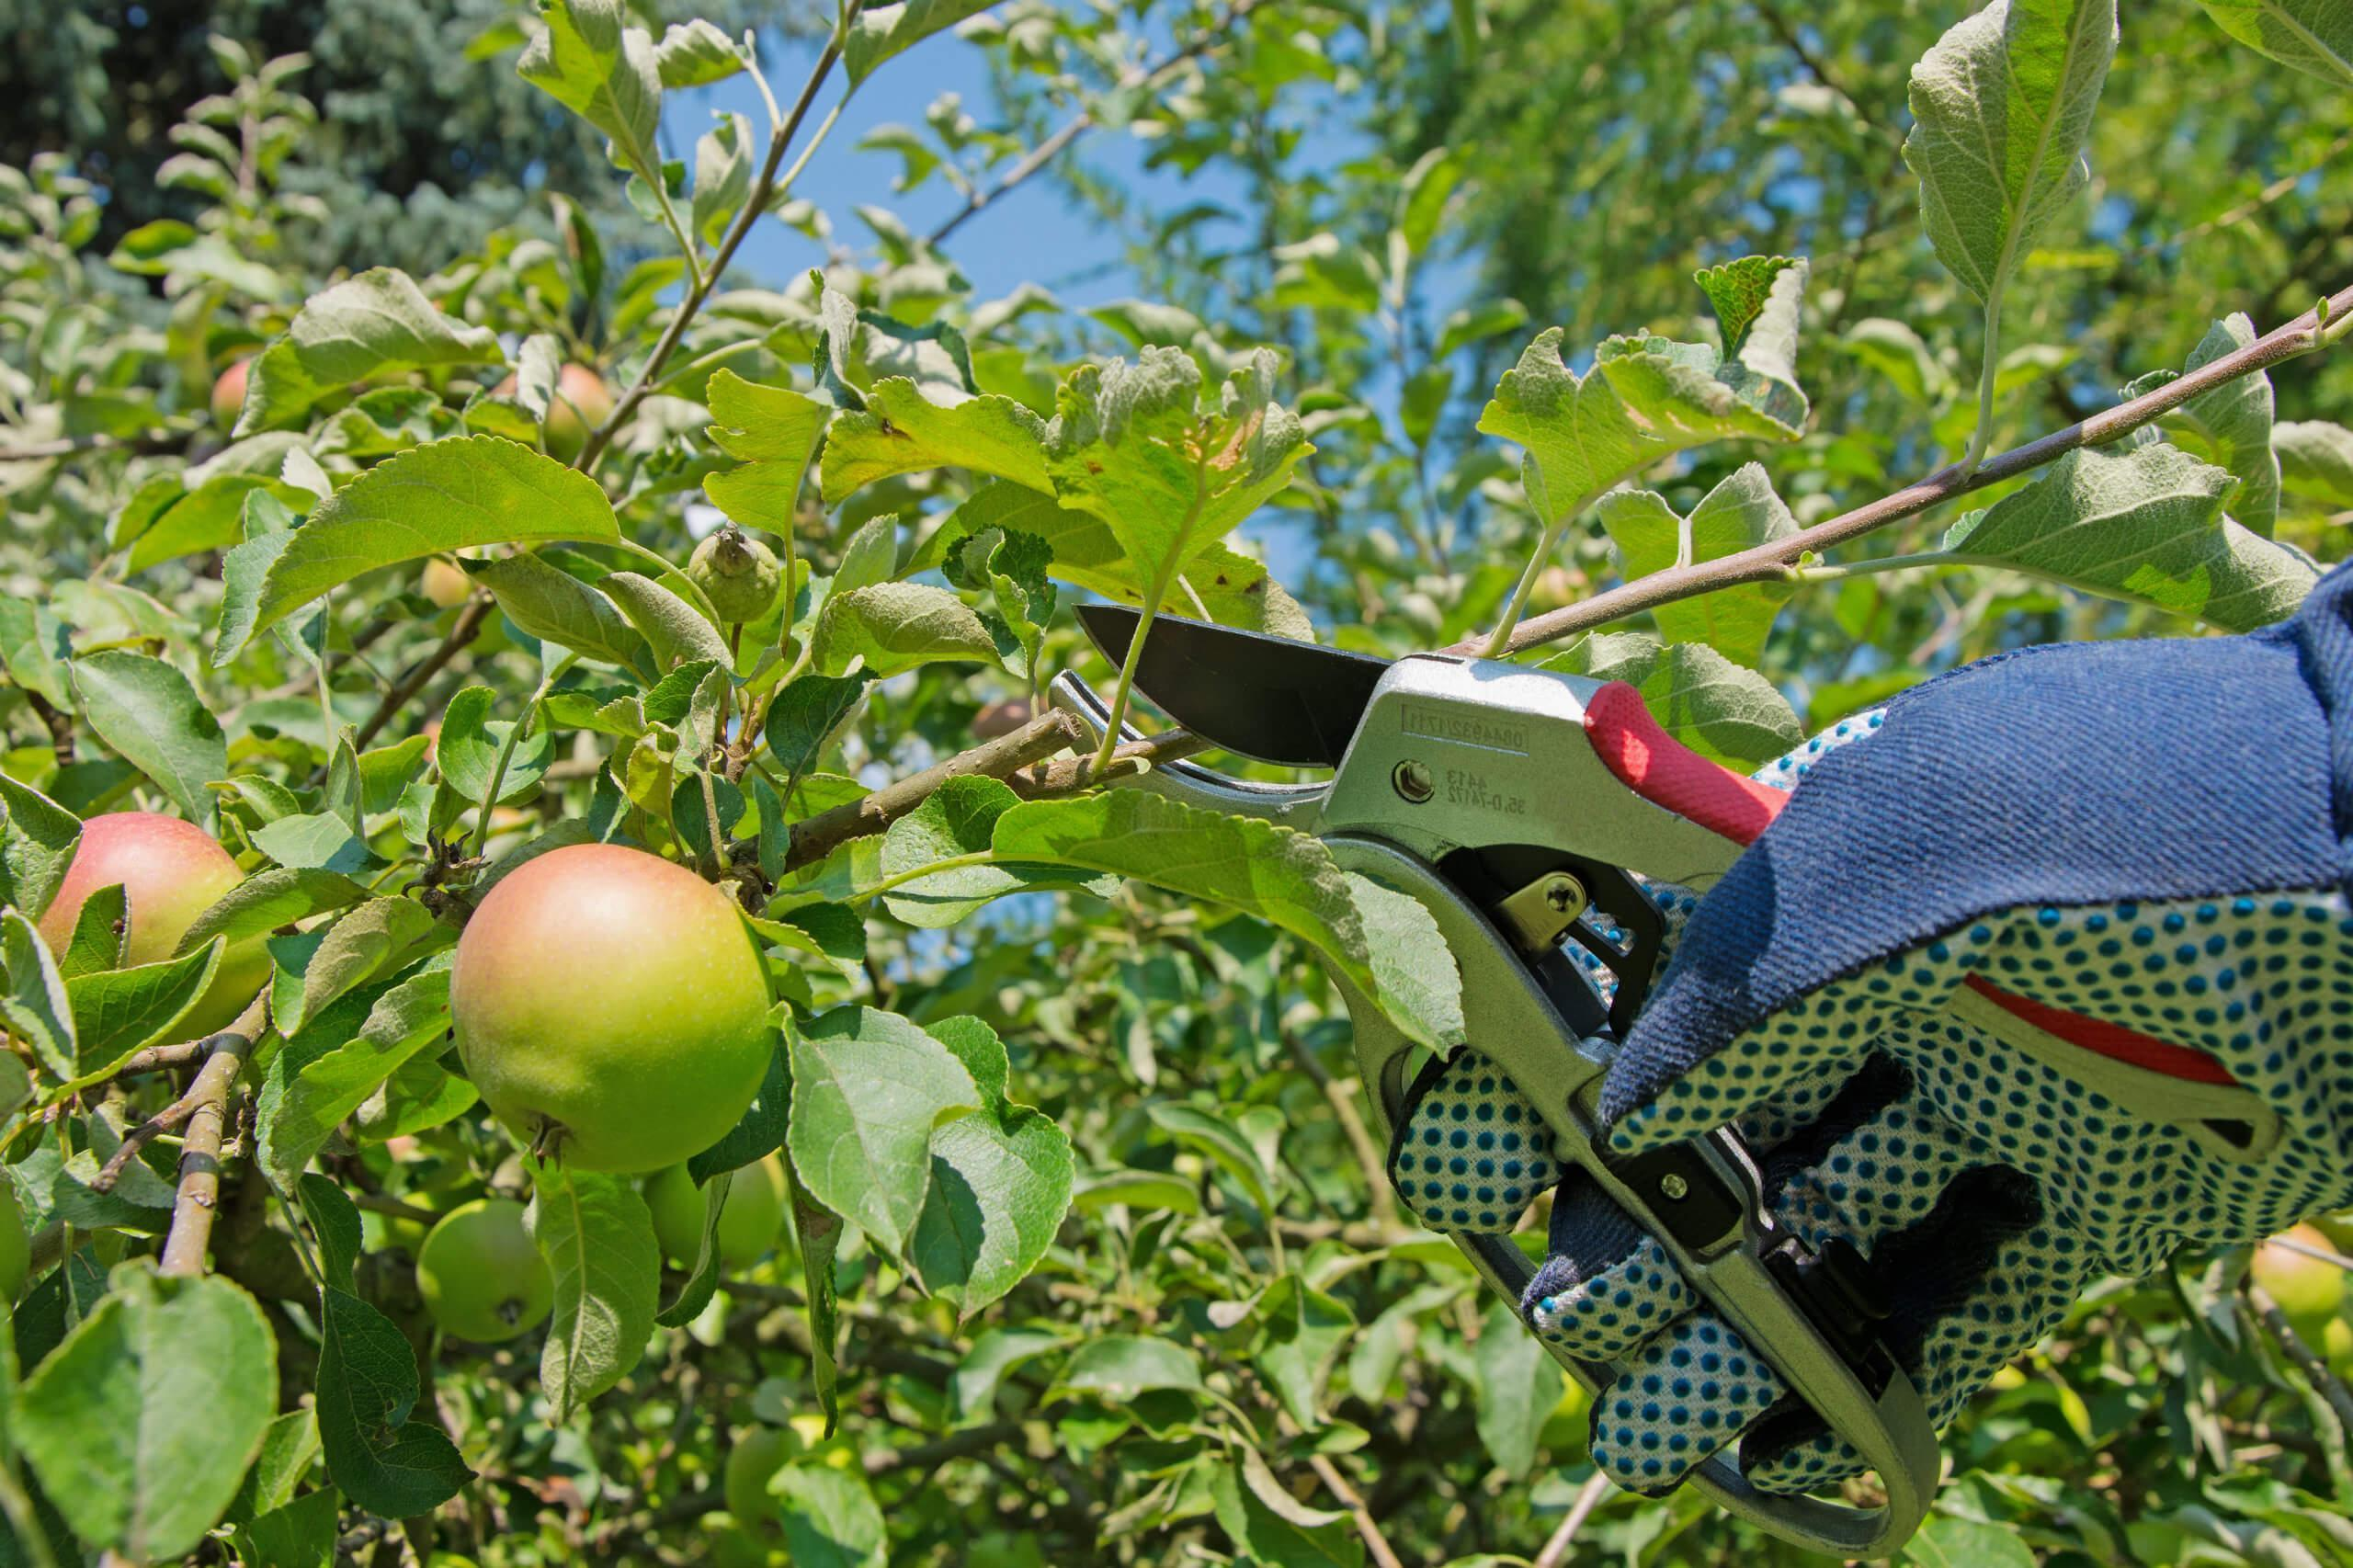apple: (439, 838, 780, 1176), (26, 810, 280, 1052)
